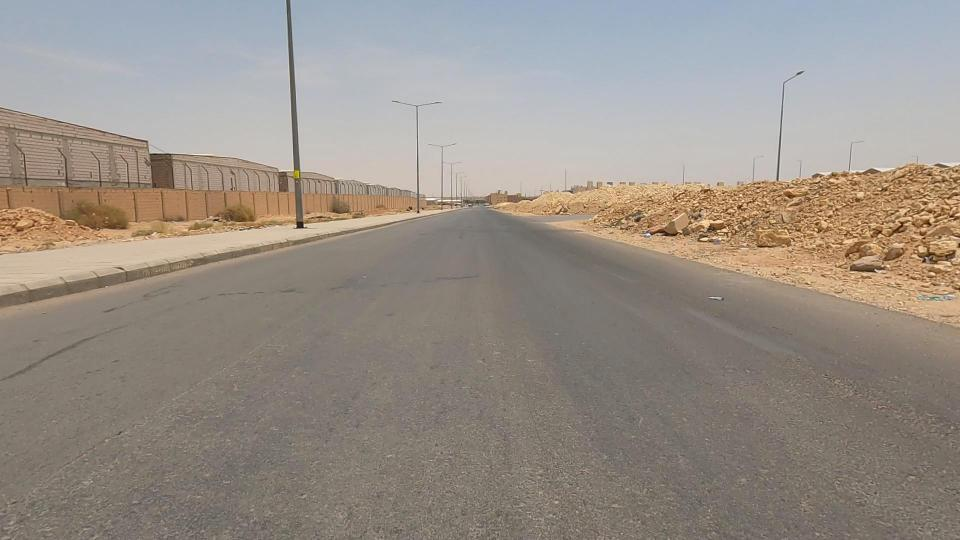GARBAGE: (687, 273, 749, 332), (690, 217, 746, 266), (615, 216, 685, 255)
